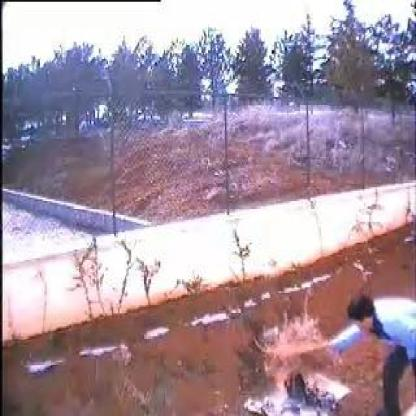foggia-v2-map80-epoch100 - v1 4323: (259, 315, 316, 382)
